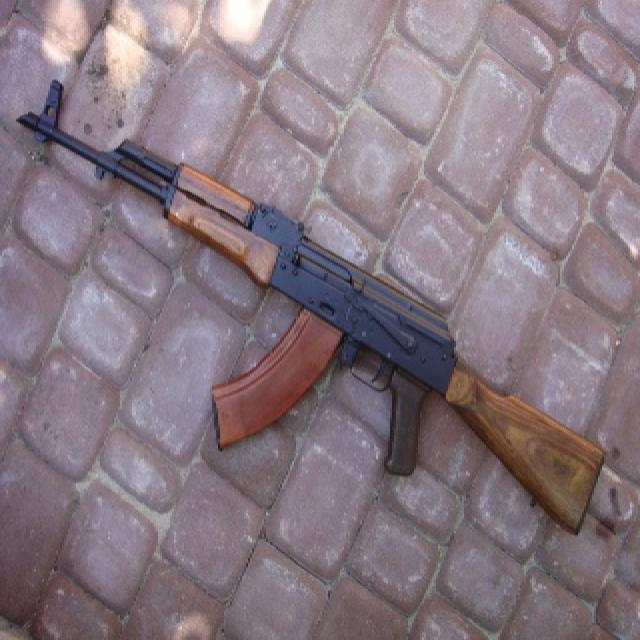rifle: (13, 75, 613, 533)
